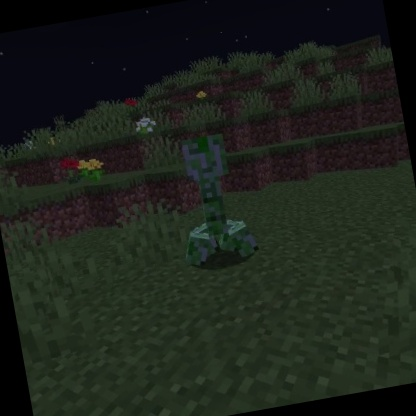creeper: (160, 126, 264, 275)
